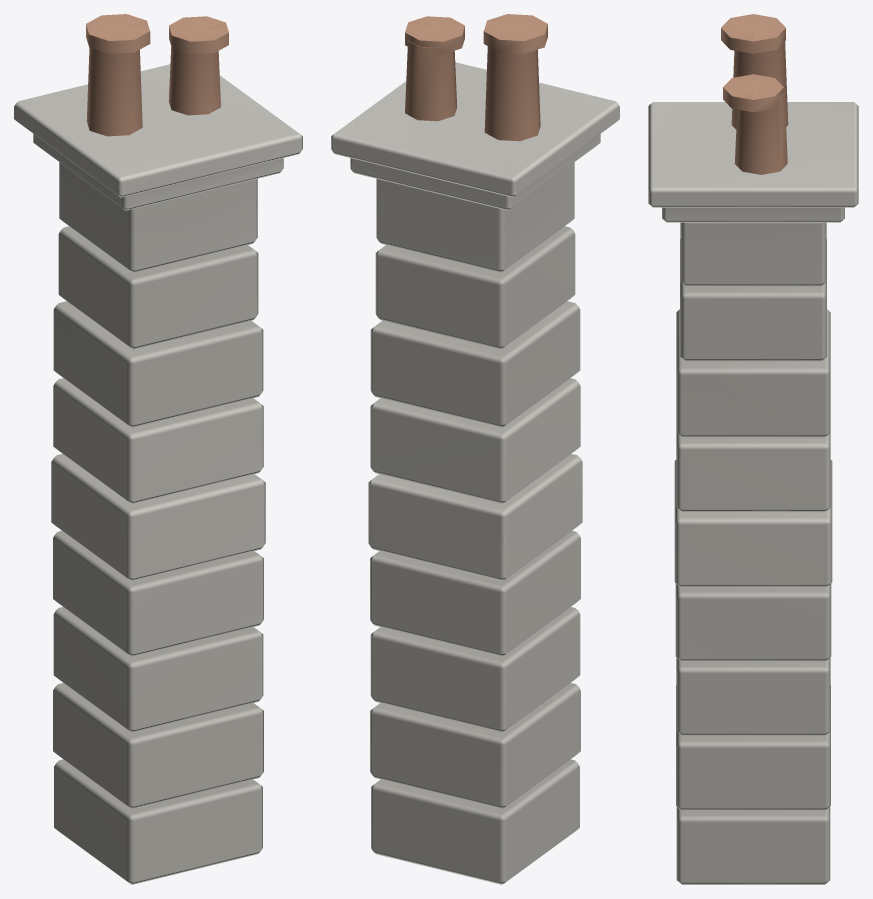
The model's file is thatch-chimney.glb.
The picture shows the model from 3 angles, left to right: view 1: azimuth 30°, elevation 25°; view 2: azimuth 150°, elevation 25°; view 3: azimuth 270°, elevation 25°; orthographic projection. The views are drawn at different scales.
Parts seen in each view (by area): view 1: body; view 2: body; view 3: body.
Part boxes in pixels (left/top/right/bottom): body: left=14, top=14, right=302, bottom=884; body: left=331, top=14, right=619, bottom=884; body: left=648, top=14, right=858, bottom=884.
Size of what is drawn, in the model's own units: 0.4599 by 1.95 by 0.4599.
